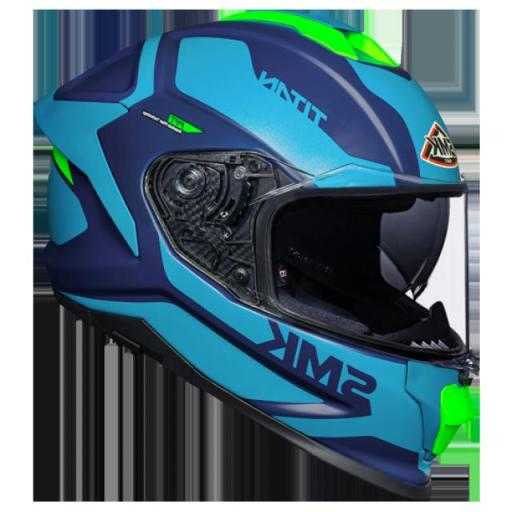Helmet: (36, 12, 474, 498)
